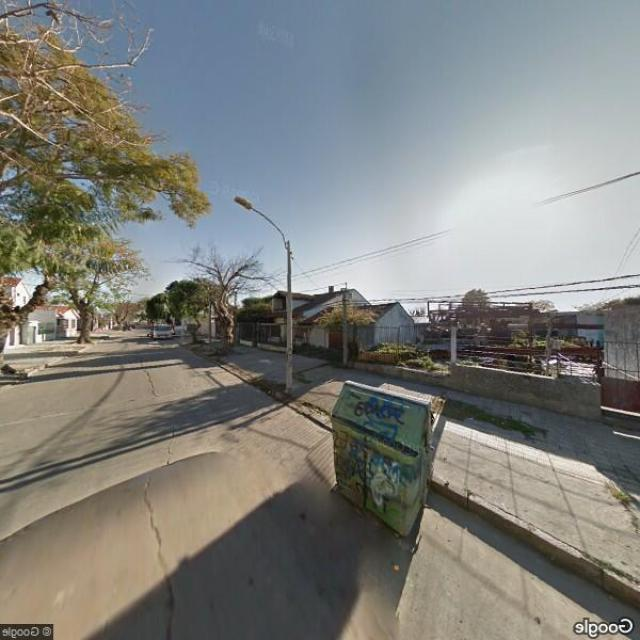garbage container: (315, 372, 452, 550)
